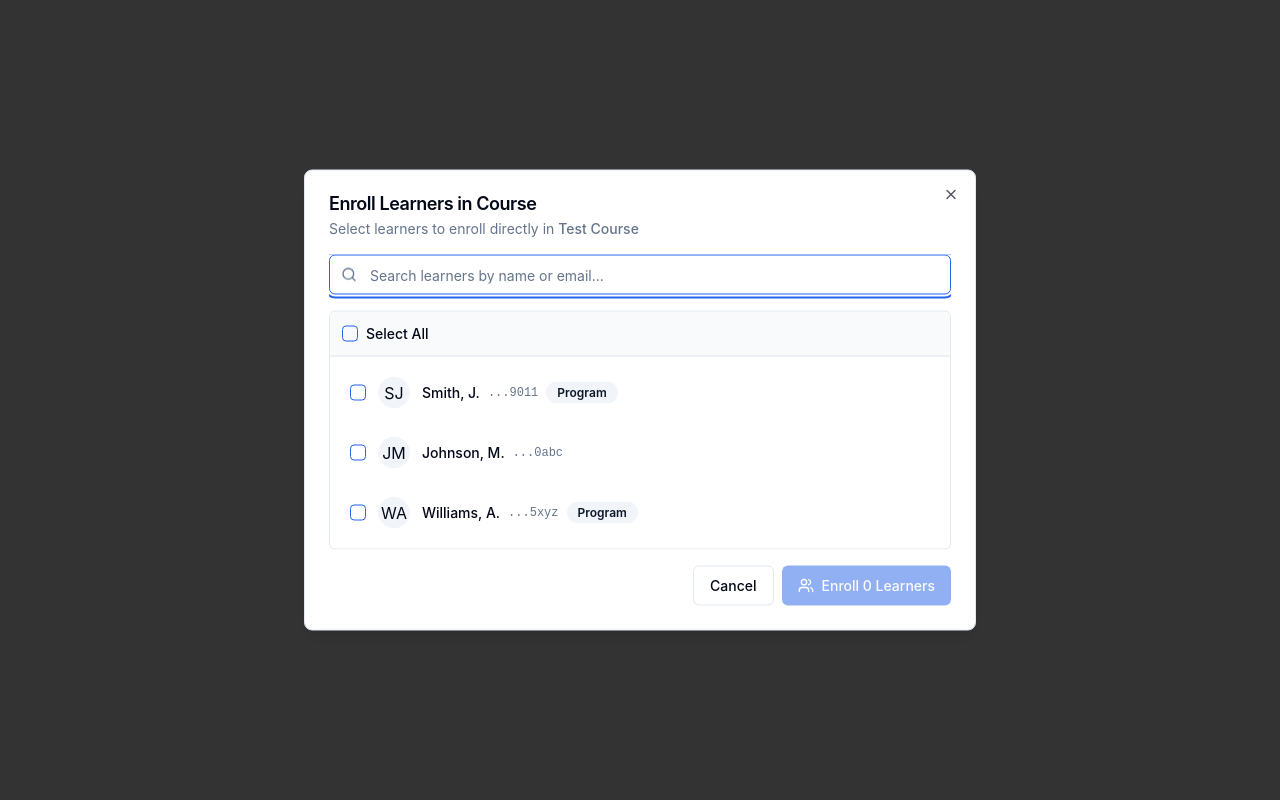
Test: EnrollCourseDialog › shows partial failure results
// Use select all
Click the checkbox named "select all". click: click(350, 334)
box: [342,326,358,342]
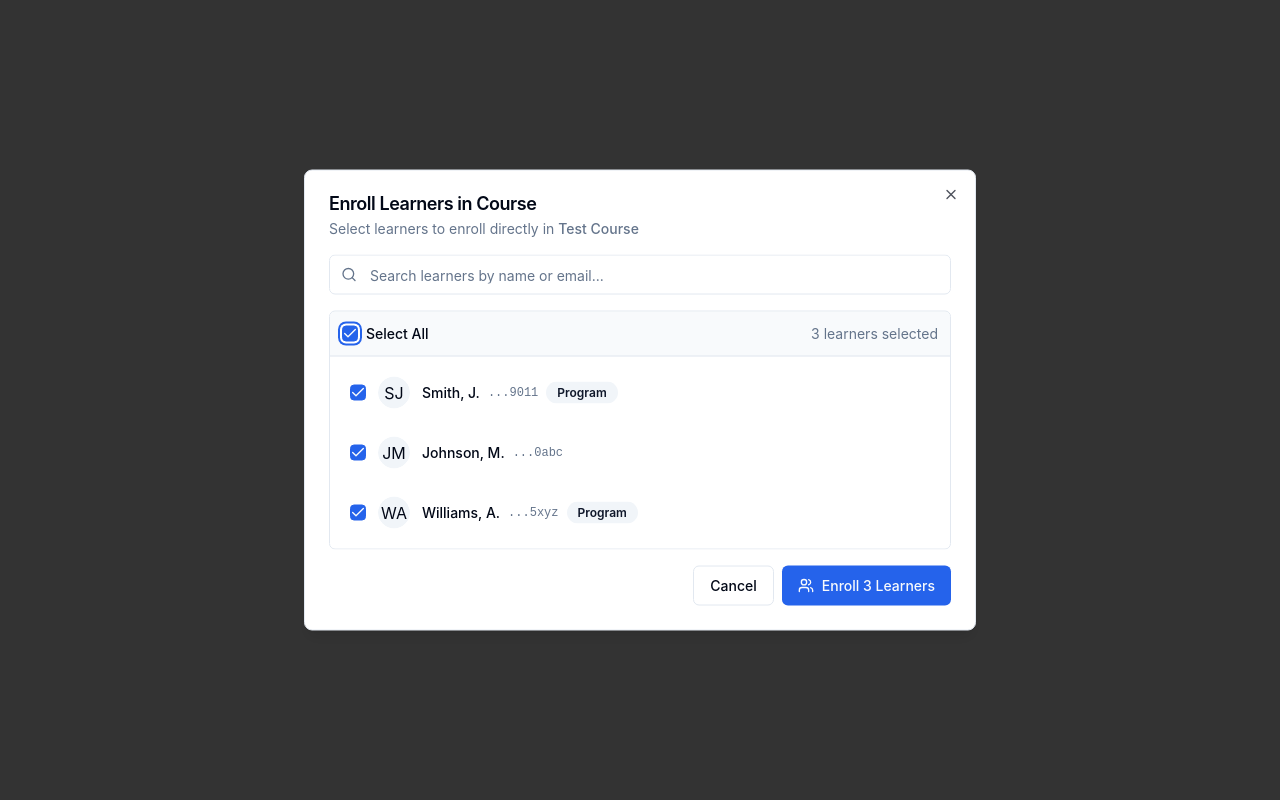
Click the button "Enroll 3 Learners". click: click(866, 586)
box: [782,566,951,606]
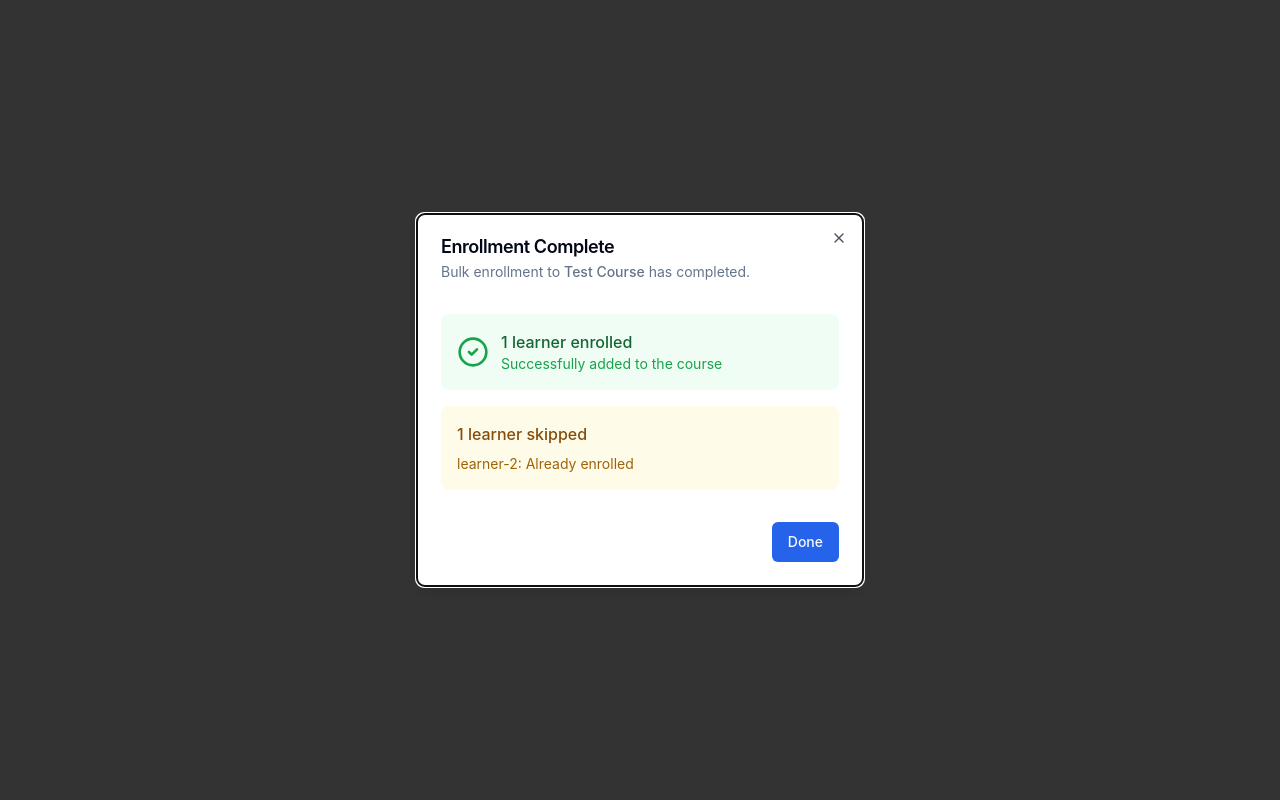
Now the text "1 learner enrolled" is shown, box [501,332,632,352]
Now the text "1 learner skipped" is shown, box [457,424,587,444]
